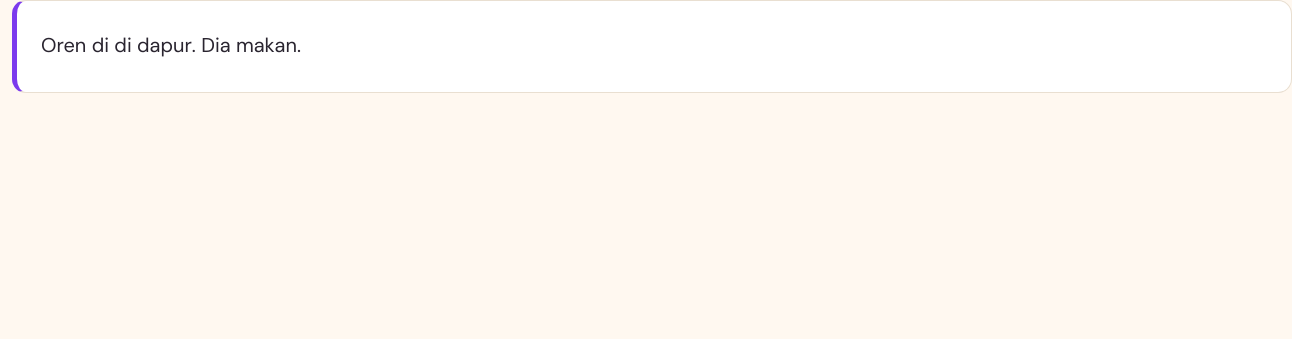
it: TeksKlik › selesai menampilkan versi benar
Click the 1st button "di" at (100, 46), box [92,25,109,68]
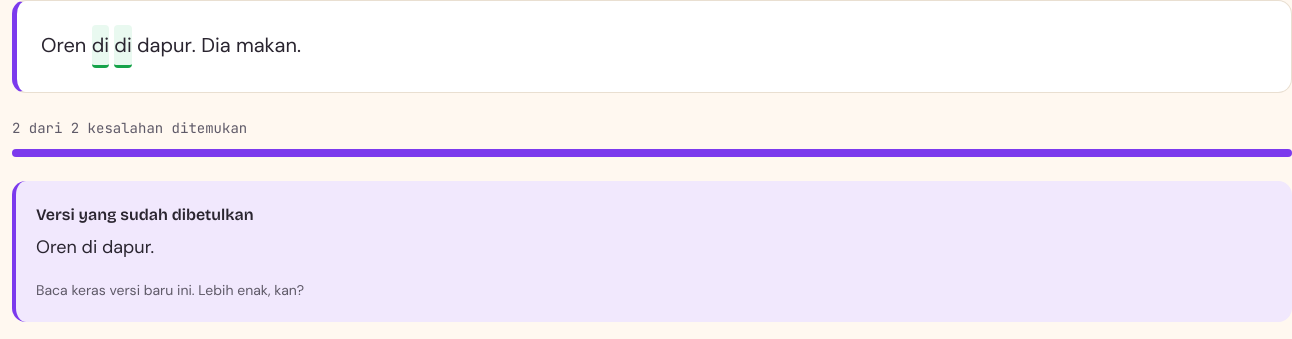
Expected: the text "Oren di dapur." is shown, [36,235,154,259]
